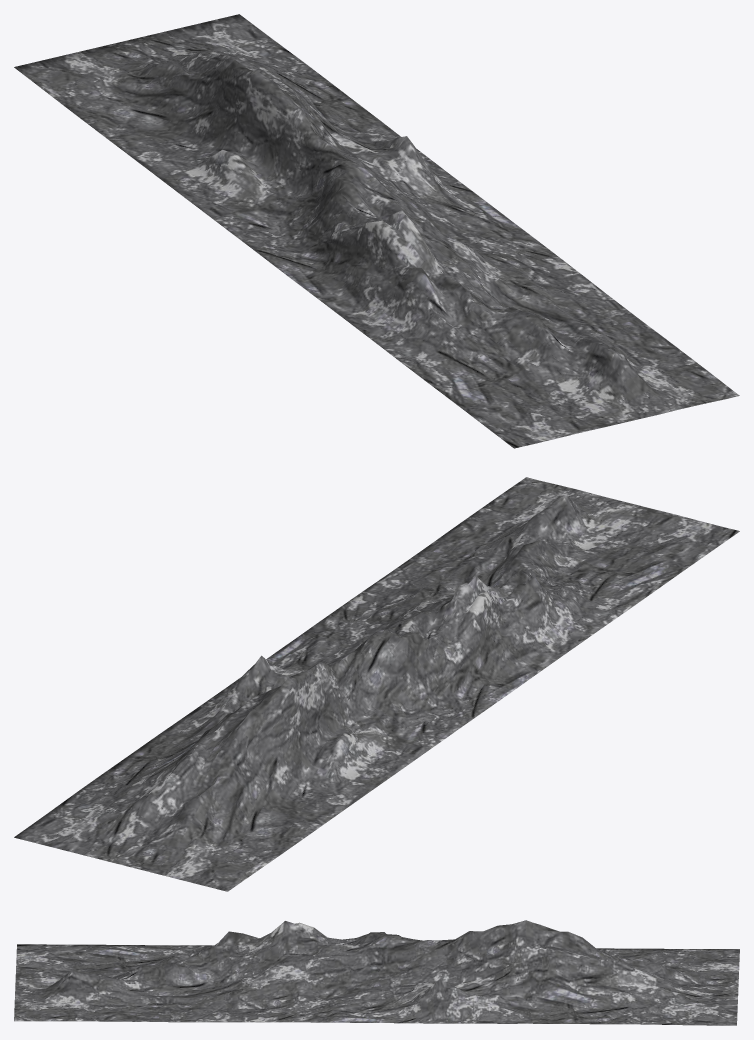
The model's file is mountain_A.dae.
The picture shows the model from 3 angles, top to bottom: view 1: azimuth 30°, elevation 25°; view 2: azimuth 150°, elevation 25°; view 3: azimuth 270°, elevation 25°; orthographic projection. The views are drawn at different scales.
Parts seen in each view (by area): view 1: mountain_A; view 2: mountain_A; view 3: mountain_A.
Part boxes in pixels (left/top/right/bottom): mountain_A: left=14, top=14, right=739, bottom=448; mountain_A: left=14, top=477, right=739, bottom=891; mountain_A: left=14, top=920, right=739, bottom=1025.
Bounding box in the file's own units: 34.25 × 12.35 × 129.
1 material, 1 textured.
